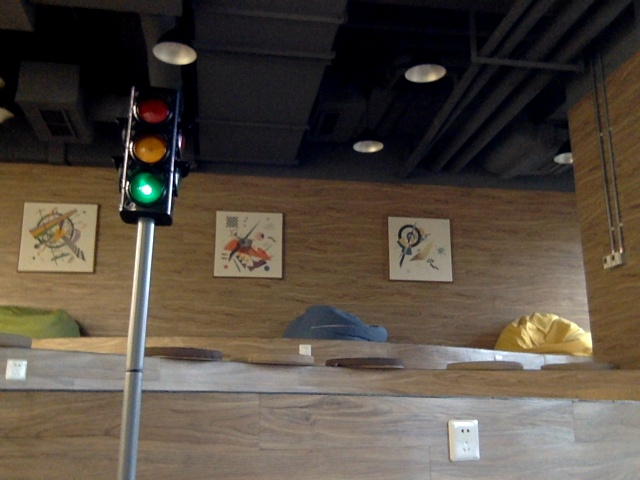green: (131, 93, 166, 210)
